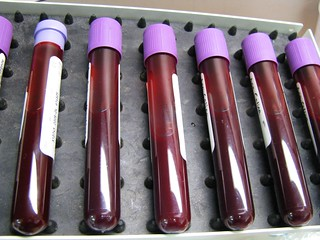blood: (9, 40, 68, 235), (252, 59, 315, 224), (142, 52, 194, 234), (197, 55, 250, 229), (82, 48, 125, 233)
